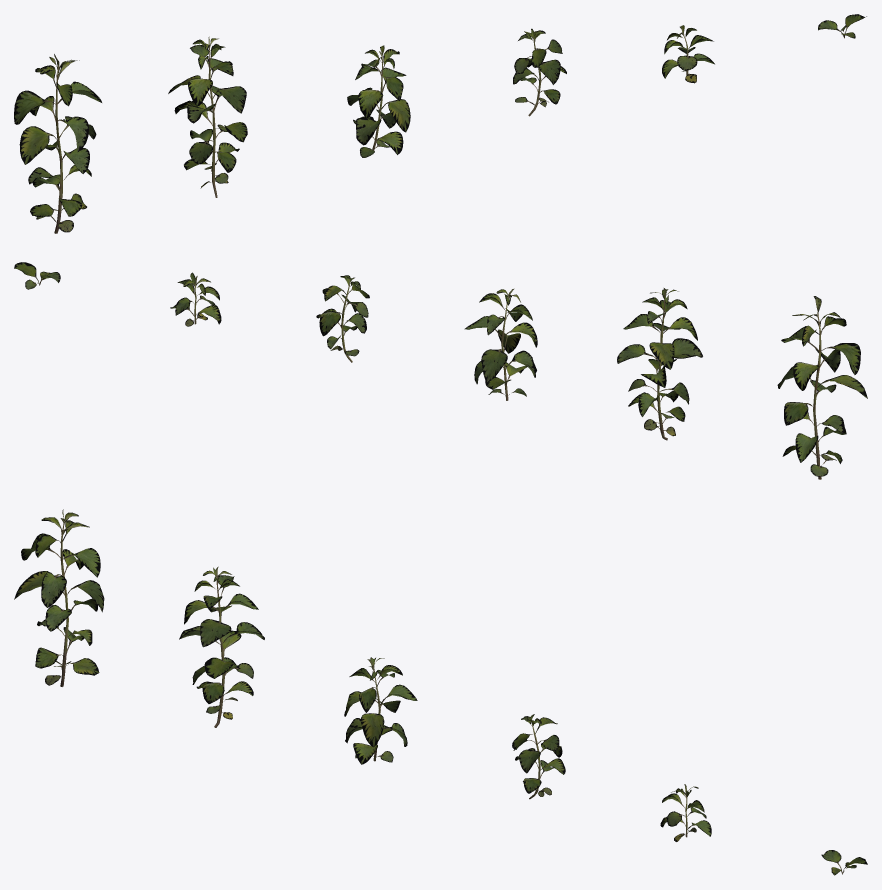
The model's file is nettle.glb.
3 renders of one model, top to bottom at view 1: azimuth 30°, elevation 25°; view 2: azimuth 150°, elevation 25°; view 3: azimuth 330°, elevation 25°, orthographic.
Visible parts, largest first — view 1: nettle_plant_tall_a_LOD0, nettle_plant_tall_b_LOD0, nettle_plant_medium_a_LOD0, nettle_plant_medium_b_LOD0, nettle_plant_small_a_LOD0; view 2: nettle_plant_tall_a_LOD0, nettle_plant_tall_b_LOD0, nettle_plant_medium_a_LOD0, nettle_plant_medium_b_LOD0, nettle_plant_small_a_LOD0, nettle_plant_small_b_LOD0; view 3: nettle_plant_tall_a_LOD0, nettle_plant_tall_b_LOD0, nettle_plant_medium_a_LOD0, nettle_plant_medium_b_LOD0, nettle_plant_small_a_LOD0.
Boxes of the visible parts, box(x1,y1,x2,y2) form: nettle_plant_tall_a_LOD0: box(14, 54, 101, 233); nettle_plant_tall_b_LOD0: box(168, 36, 247, 197); nettle_plant_medium_a_LOD0: box(347, 45, 410, 157); nettle_plant_medium_b_LOD0: box(513, 28, 566, 116); nettle_plant_small_a_LOD0: box(662, 25, 714, 83); nettle_plant_tall_a_LOD0: box(777, 296, 867, 479); nettle_plant_tall_b_LOD0: box(617, 288, 702, 440); nettle_plant_medium_a_LOD0: box(464, 288, 537, 400); nettle_plant_medium_b_LOD0: box(316, 275, 369, 362); nettle_plant_small_a_LOD0: box(170, 272, 221, 326); nettle_plant_small_b_LOD0: box(14, 262, 60, 289); nettle_plant_tall_a_LOD0: box(14, 509, 104, 686); nettle_plant_tall_b_LOD0: box(179, 566, 264, 727); nettle_plant_medium_a_LOD0: box(344, 657, 417, 764); nettle_plant_medium_b_LOD0: box(512, 714, 565, 799); nettle_plant_small_a_LOD0: box(660, 784, 711, 841).
Bounding box in the file's own units: 1.08 × 0.2181 × 0.0949.
1 material, 1 textured.
